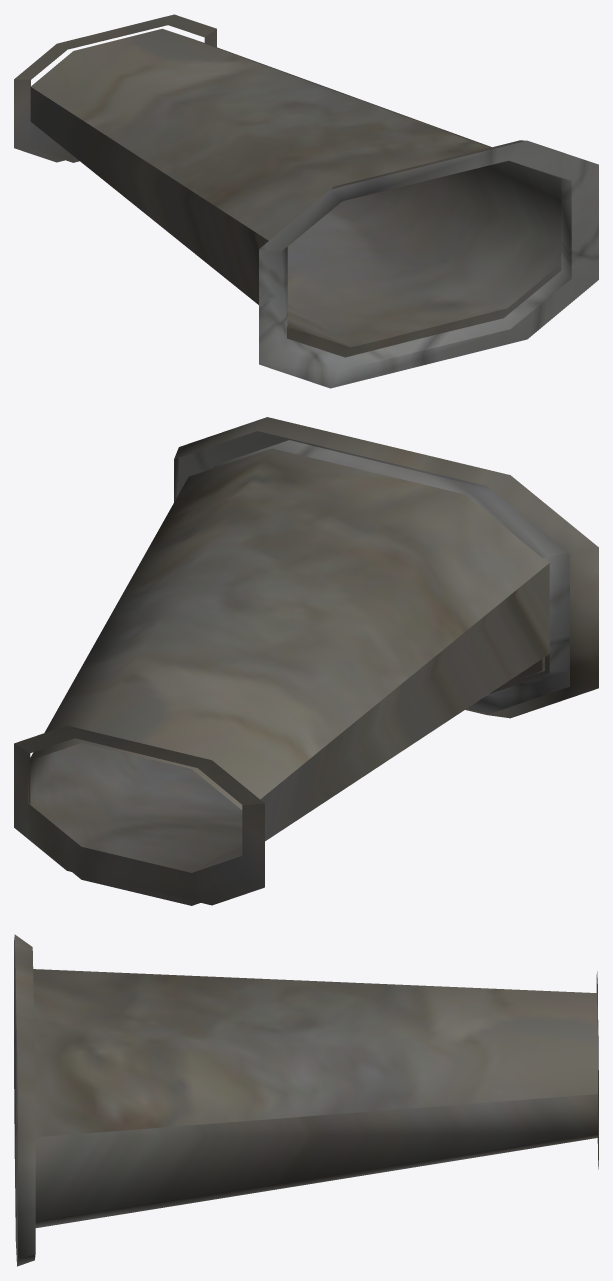
Rendered from bldg_mine_tunnel_tunnel.glb.
3 views of the same model, one above another, from view 1: azimuth 30°, elevation 25°; view 2: azimuth 150°, elevation 25°; view 3: azimuth 270°, elevation 25° (orthographic). The views are drawn at different scales.
Visible parts, largest first — view 1: polymsh; view 2: polymsh; view 3: polymsh.
Part boxes in pixels (<box>): polymsh: <box>14,14,598,388</box>; polymsh: <box>14,417,598,905</box>; polymsh: <box>14,934,598,1266</box>.
Size of the model in its own units: 0.4544 by 0.2527 by 0.5989.
Materials: 1 (1 with a texture image).
